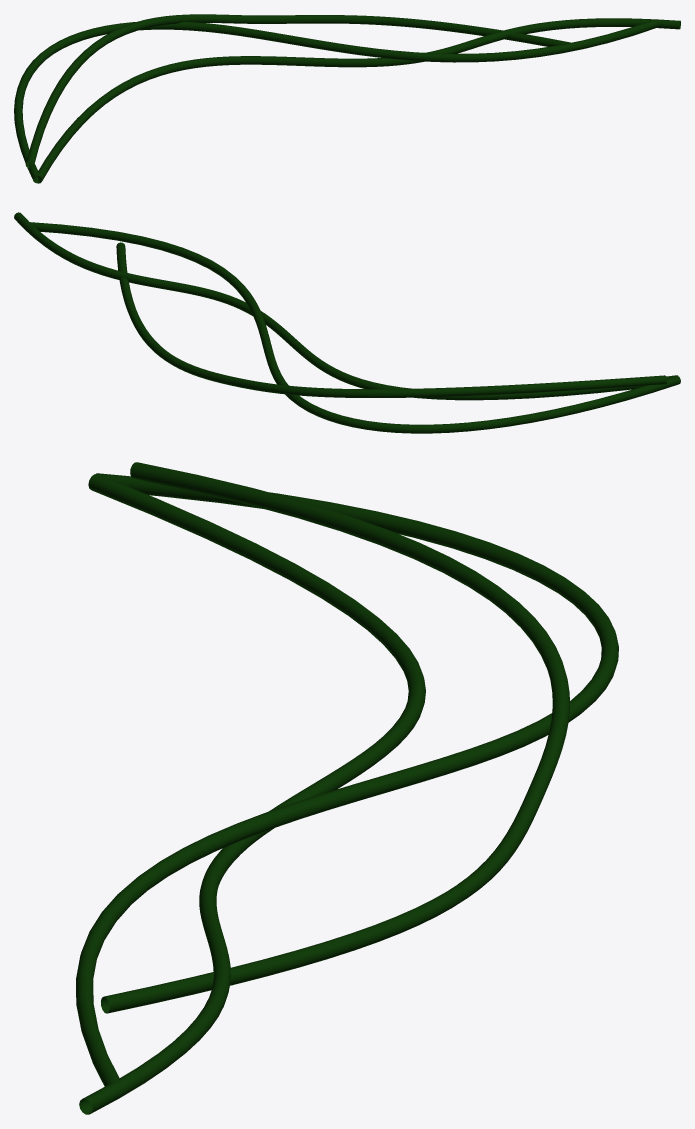
Rendered from Rod.fbx.
3 views of the same model, one above another, from view 1: azimuth 30°, elevation 25°; view 2: azimuth 150°, elevation 25°; view 3: azimuth 270°, elevation 25° (orthographic). The views are drawn at different scales.
Parts seen in each view (by area): view 1: NurbsPath; view 2: NurbsPath; view 3: NurbsPath.
Part boxes in pixels (x1,y1,x2,y2): NurbsPath: (14,14,680,183); NurbsPath: (14,212,680,433); NurbsPath: (76,462,618,1114).
Size of the model in its own units: 172 by 9.08 by 62.51.
